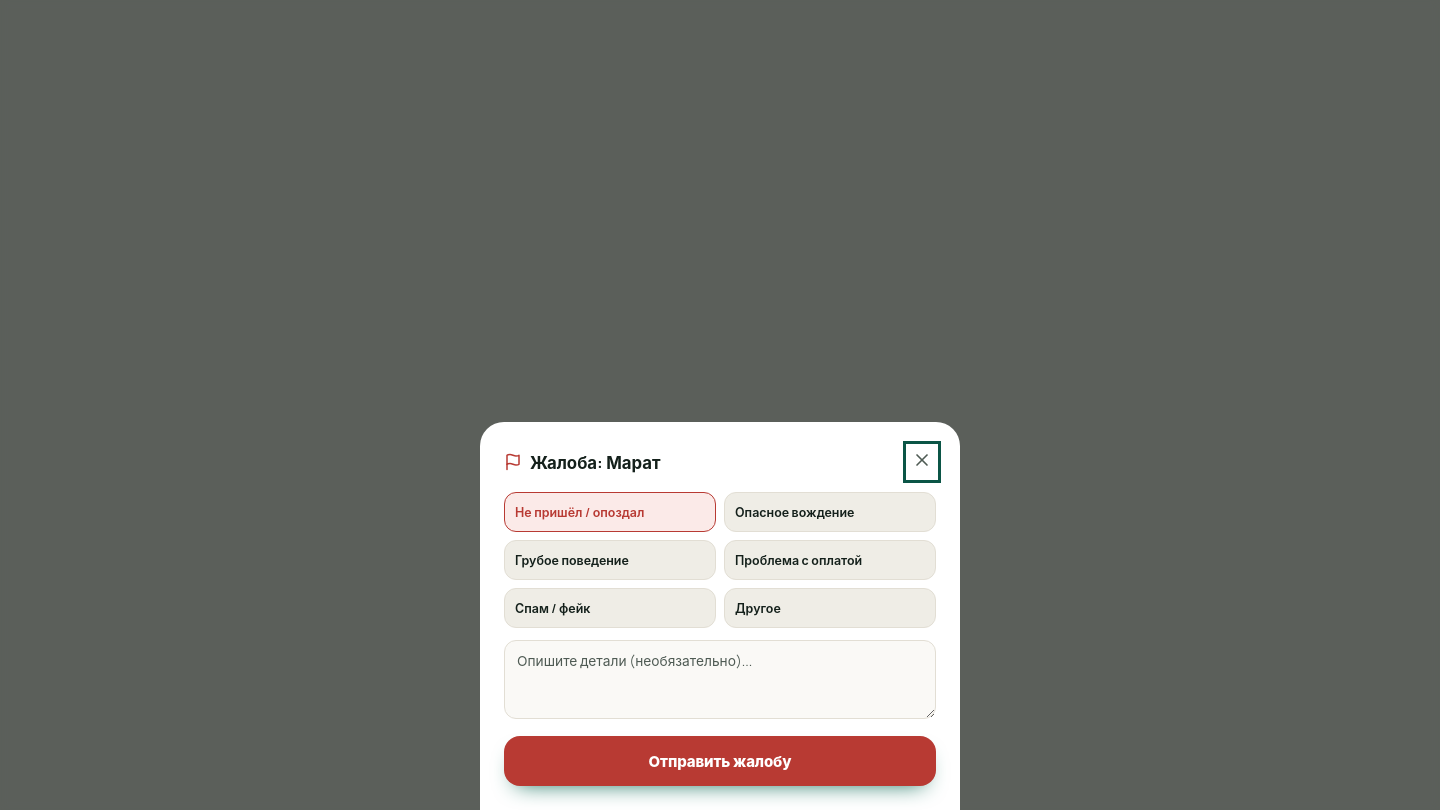
ReportModal › submits selected reason and details and shows confirmation
Check: the dialog is shown, box [480,422,960,809]
Click the radio button labelled "Опасное вождение" at (830, 512), box [724,492,936,532]
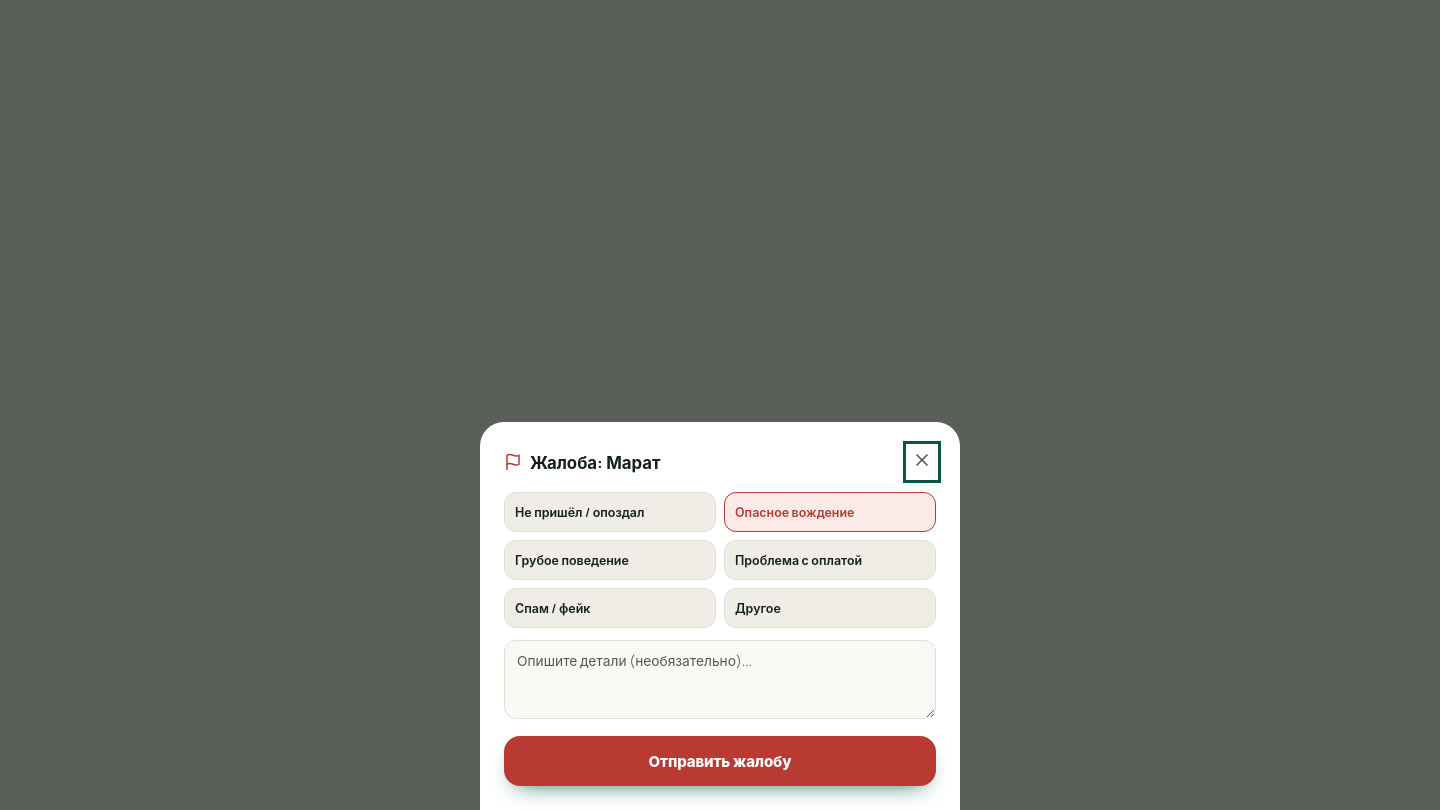
Type "Превышение скорости" into the text box with placeholder "Опишите детали (необязательно)..." at (720, 680), box [504,640,936,719]
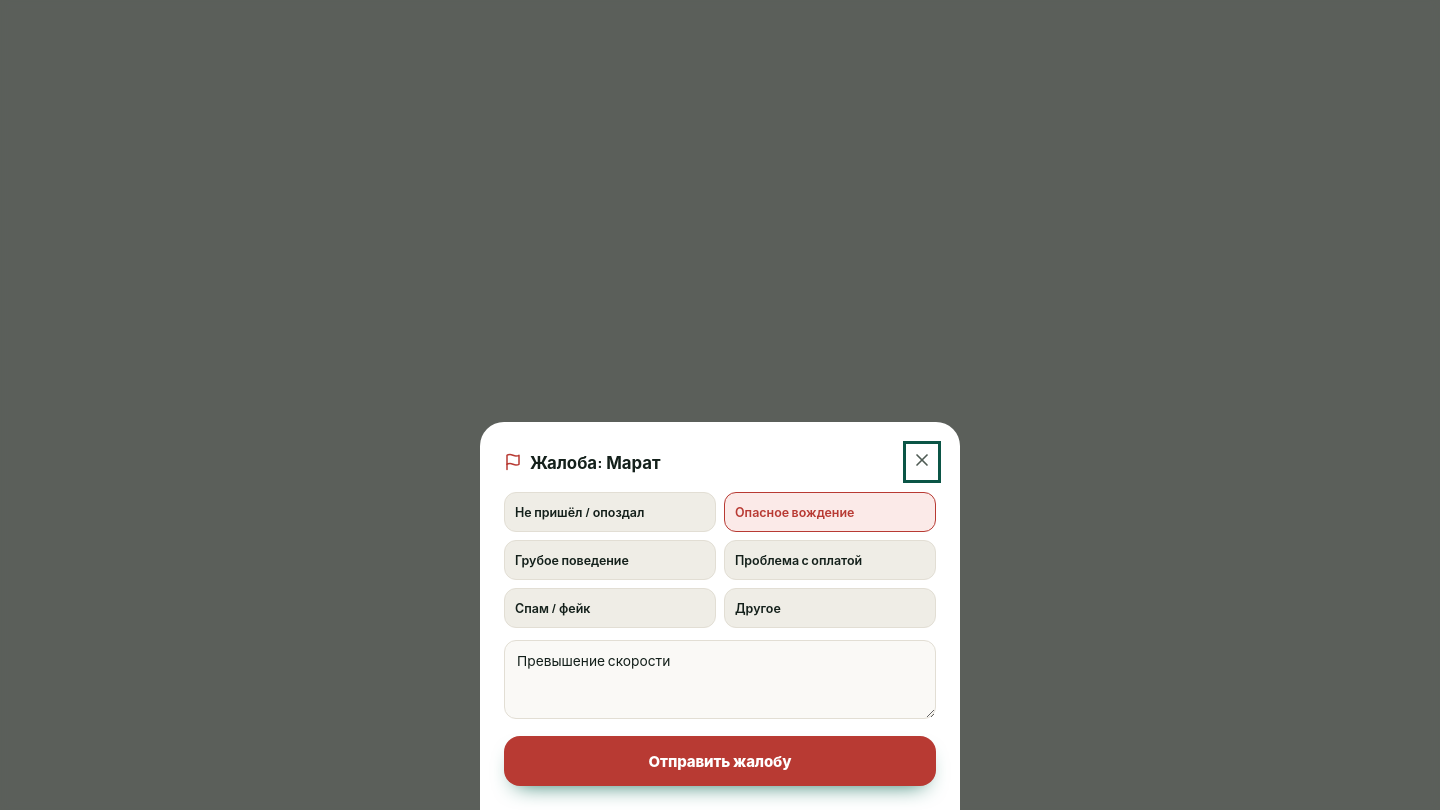
Click the button "Отправить жалобу" at (720, 761), box [504,736,936,786]
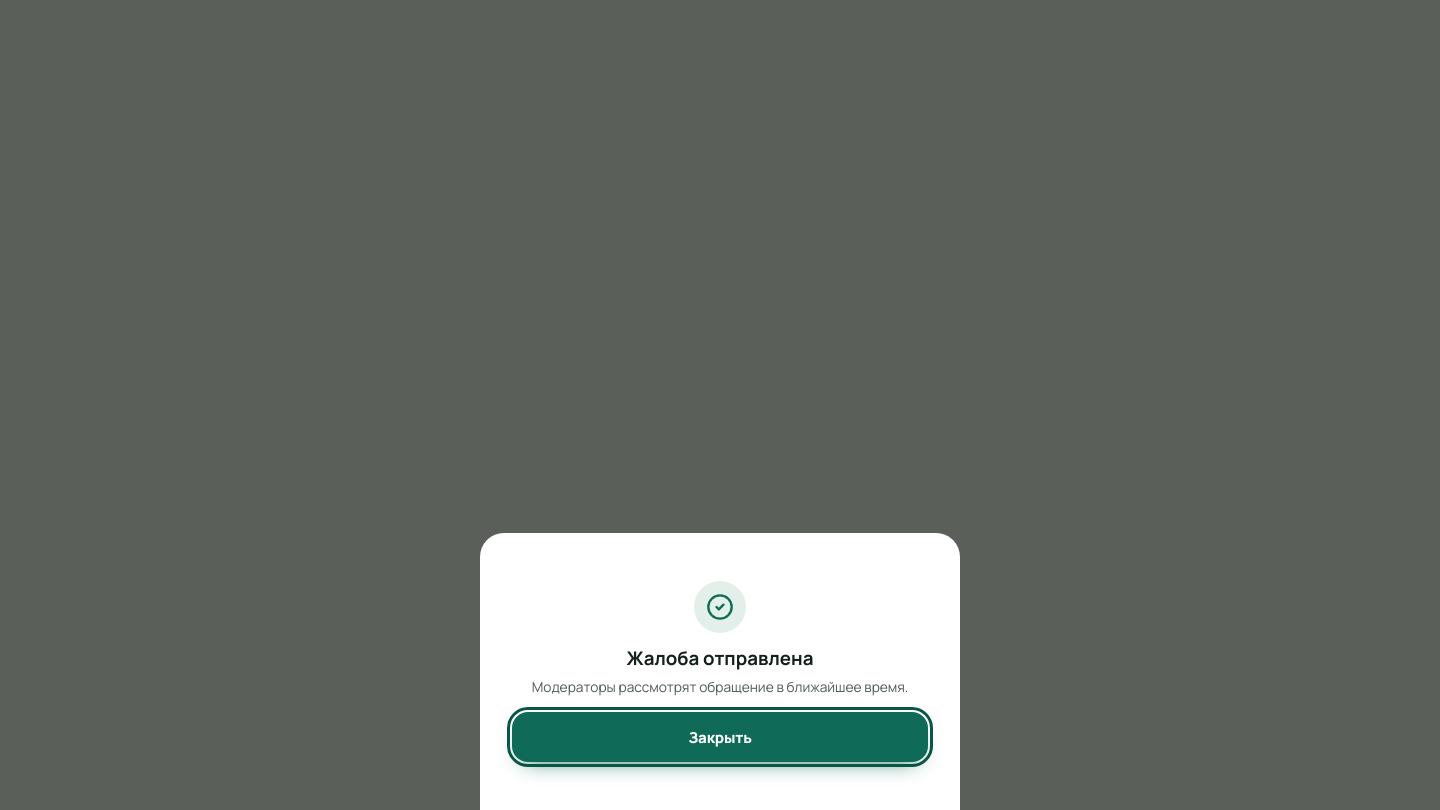
Check: the heading "Жалоба отправлена" is shown, box [626,645,813,671]
